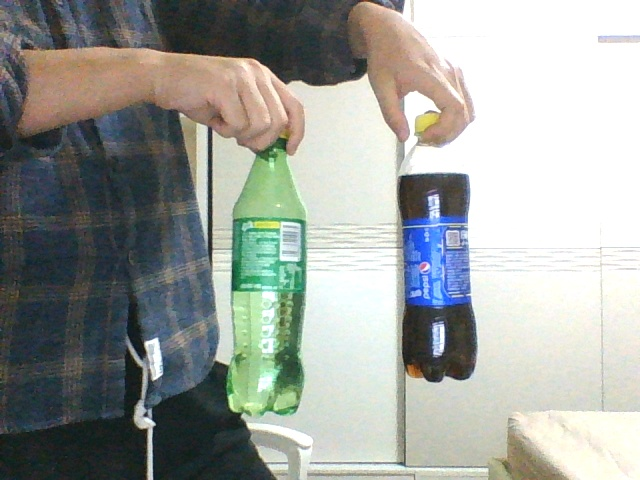Cola: (398, 112, 478, 380)
Sprite: (227, 131, 307, 415)
